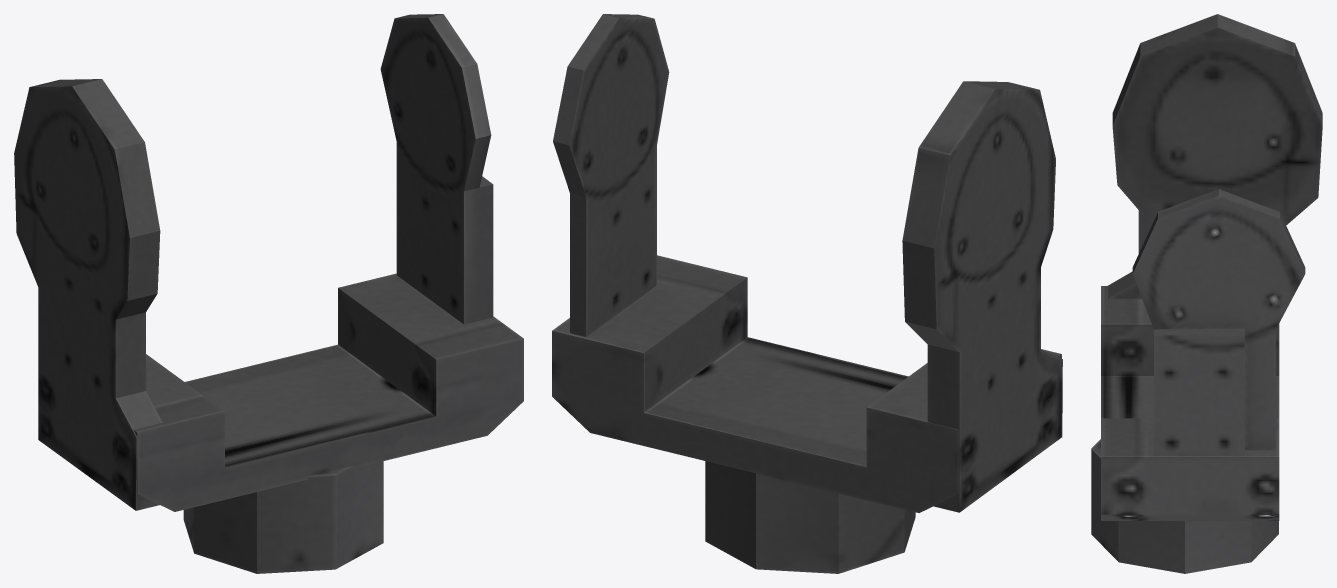
The model's file is r_hand.dae.
3 views of the same model, side by side, from view 1: azimuth 30°, elevation 25°; view 2: azimuth 150°, elevation 25°; view 3: azimuth 270°, elevation 25° (orthographic). The views are drawn at different scales.
Parts seen in each view (by area): view 1: drc_r_hand; view 2: drc_r_hand; view 3: drc_r_hand.
Part boxes in pixels (x1,y1,x2,y2): drc_r_hand: (14, 14, 523, 573); drc_r_hand: (552, 14, 1062, 573); drc_r_hand: (1091, 14, 1322, 573).
Size of the model in its own units: 0.1348 by 0.1595 by 0.077.
1 material, 1 textured.
